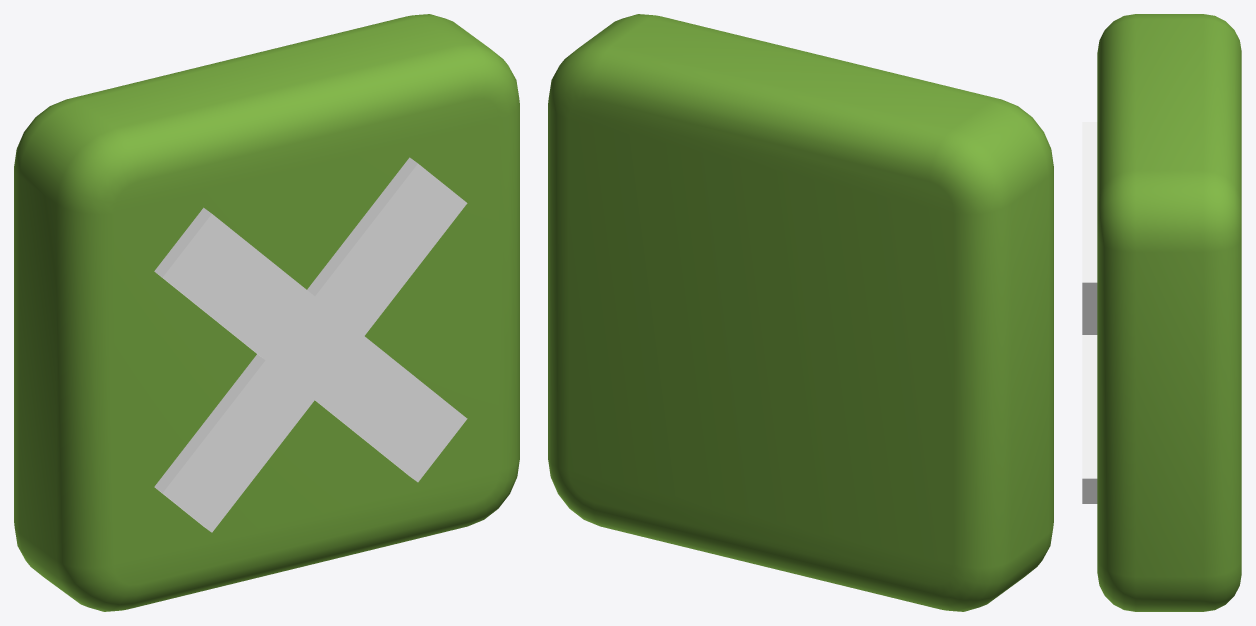
The model's file is cross_mark_button.glb.
The picture shows the model from 3 angles, left to right: view 1: azimuth 30°, elevation 25°; view 2: azimuth 150°, elevation 25°; view 3: azimuth 270°, elevation 25°; orthographic projection. The views are drawn at different scales.
Visible parts, largest first — view 1: Cube.6463, Cube.6462; view 2: Cube.6463; view 3: Cube.6463, Cube.6462.
Boxes of the visible parts, <box> form: Cube.6463: <box>14,14,519,611</box>; Cube.6462: <box>154,157,467,532</box>; Cube.6463: <box>548,14,1053,611</box>; Cube.6463: <box>1097,14,1241,611</box>; Cube.6462: <box>1082,122,1097,503</box>.
Size of the model in its own units: 2.2 by 2.2 by 0.73.
Materials: 1 (1 with a texture image).
